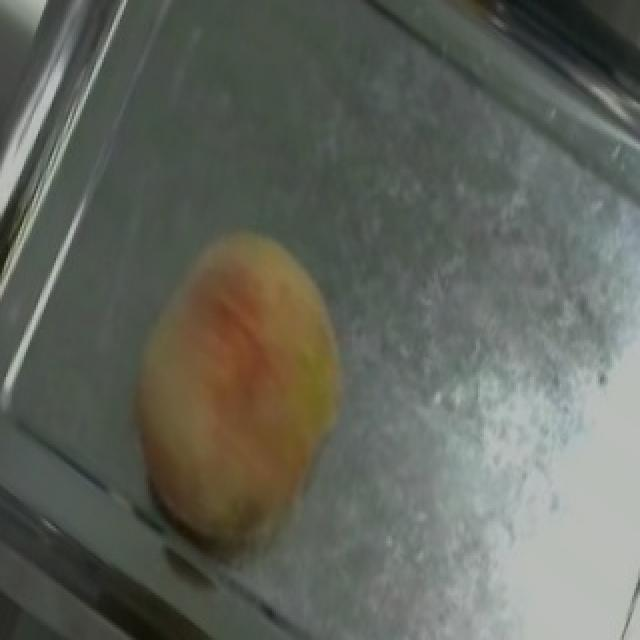Fruit: (84, 186, 396, 581)
